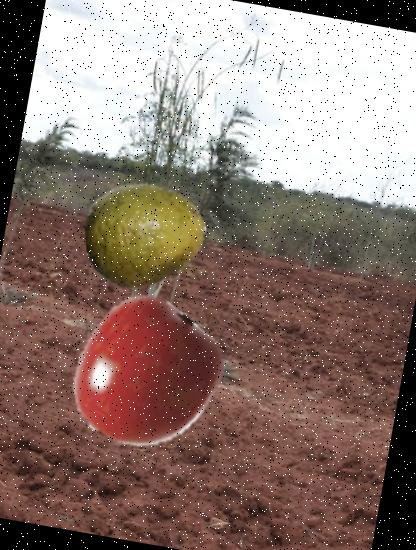Guava: (75, 165, 216, 305)
Tomato: (59, 292, 229, 462)
